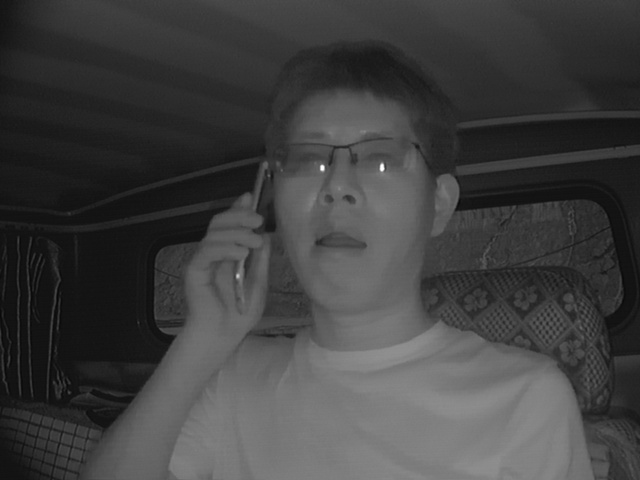hand: (182, 197, 277, 330)
